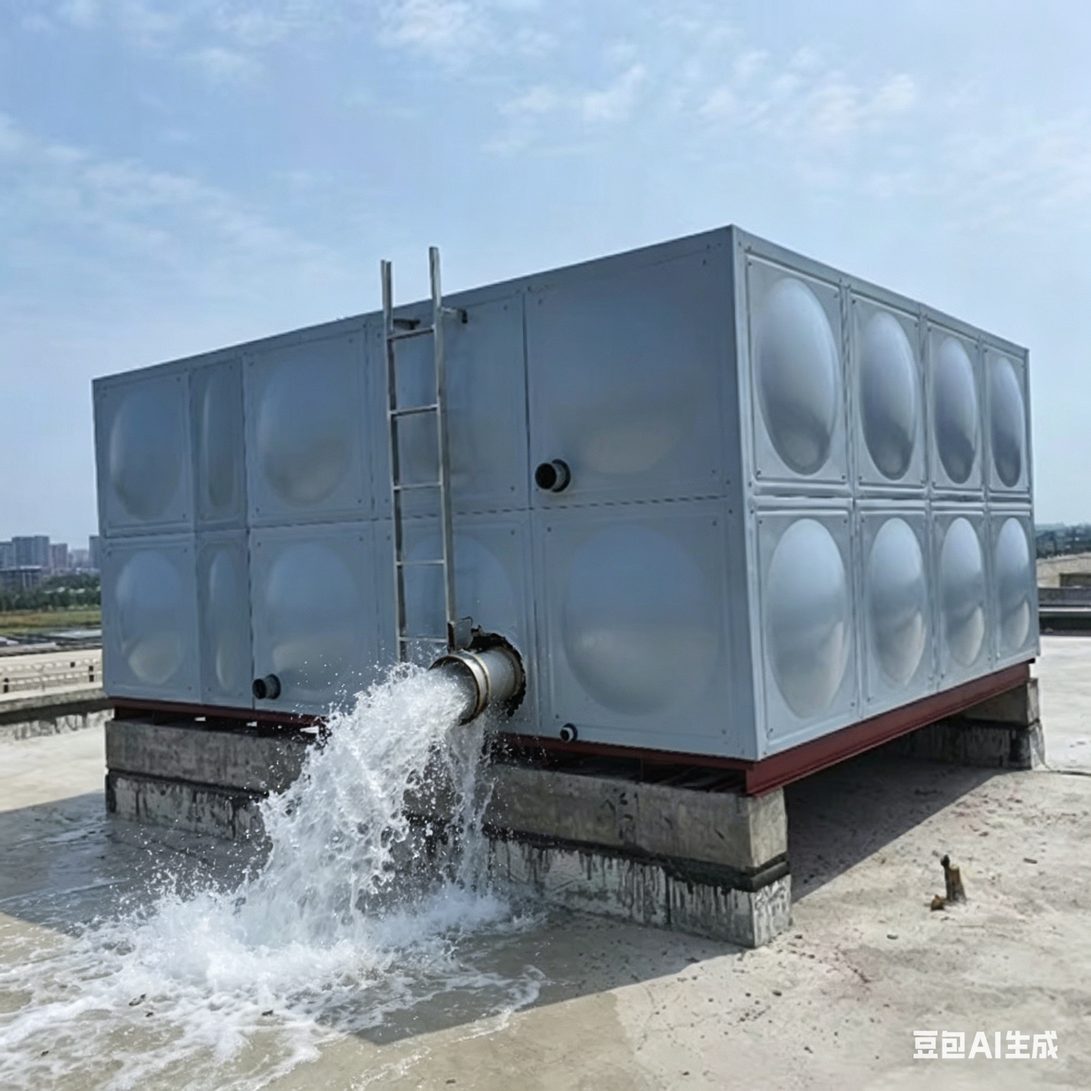Leakage: (241, 648, 539, 1029), (90, 872, 241, 1057)
